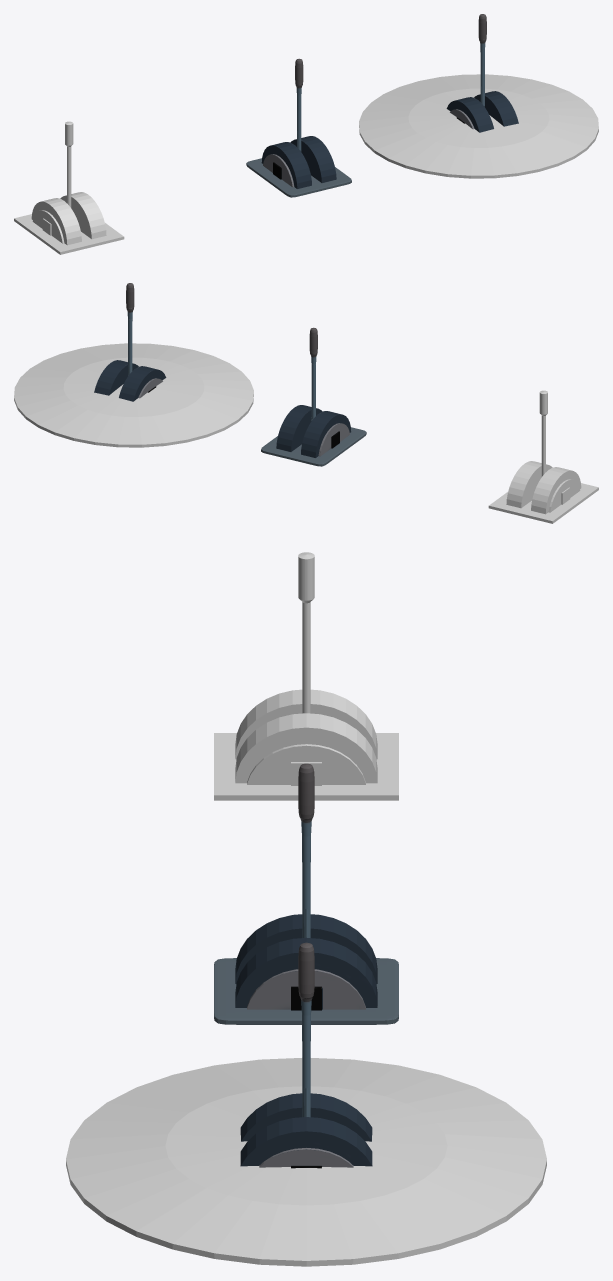
Rendered from Switch.fbx.
The picture shows the model from 3 angles, top to bottom: view 1: azimuth 30°, elevation 25°; view 2: azimuth 150°, elevation 25°; view 3: azimuth 270°, elevation 25°; orthographic projection. The views are drawn at different scales.
Visible parts, largest first — view 1: Base.001, Base, LeverMid.002, LeverMid.001, BaseLever.001, BaseLever.003, LeverMid.003, LeverMid.006, Lever, Cylinder.001, Cylinder.002; view 2: Base.001, Base, LeverMid.002, LeverMid.001, BaseLever.001, BaseLever.003, LeverMid.003, LeverMid.006, Lever, Cylinder.001, Cylinder.002; view 3: Base.001, Base, LeverMid.003, LeverMid.006, BaseLever.001, BaseLever.003, LeverMid.001, LeverMid.002, Cylinder.001, Lever, Cylinder.002.
Boxes of the visible parts, x1=… form: Base.001: x1=359, y1=74, x2=598, y2=178; Base: x1=446, y1=91, x2=518, y2=132; LeverMid.002: x1=31, y1=198, x2=81, y2=245; LeverMid.001: x1=261, y1=142, x2=311, y2=188; BaseLever.001: x1=14, y1=214, x2=124, y2=254; BaseLever.003: x1=246, y1=158, x2=351, y2=197; LeverMid.003: x1=60, y1=192, x2=106, y2=239; LeverMid.006: x1=290, y1=136, x2=336, y2=182; Lever: x1=478, y1=14, x2=486, y2=106; Cylinder.001: x1=295, y1=58, x2=303, y2=151; Cylinder.002: x1=65, y1=121, x2=73, y2=207; Base.001: x1=14, y1=343, x2=253, y2=447; Base: x1=94, y1=360, x2=166, y2=401; LeverMid.002: x1=531, y1=467, x2=581, y2=514; LeverMid.001: x1=301, y1=411, x2=351, y2=457; BaseLever.001: x1=488, y1=483, x2=598, y2=523; BaseLever.003: x1=261, y1=427, x2=366, y2=466; LeverMid.003: x1=506, y1=461, x2=552, y2=508; LeverMid.006: x1=276, y1=405, x2=322, y2=451; Lever: x1=126, y1=283, x2=134, y2=375; Cylinder.001: x1=309, y1=327, x2=317, y2=420; Cylinder.002: x1=539, y1=390, x2=547, y2=476; Base.001: x1=66, y1=1058, x2=546, y2=1266; Base: x1=240, y1=1093, x2=372, y2=1168; LeverMid.003: x1=235, y1=713, x2=377, y2=785; LeverMid.006: x1=235, y1=937, x2=377, y2=1010; BaseLever.001: x1=214, y1=733, x2=398, y2=800; BaseLever.003: x1=214, y1=958, x2=398, y2=1024; LeverMid.001: x1=235, y1=914, x2=377, y2=983; LeverMid.002: x1=235, y1=689, x2=377, y2=759; Cylinder.001: x1=298, y1=763, x2=314, y2=937; Lever: x1=298, y1=942, x2=314, y2=1117; Cylinder.002: x1=298, y1=552, x2=314, y2=713.
Size of the model in its own units: 2152 by 432 by 821.
4 materials, 2 textured.
